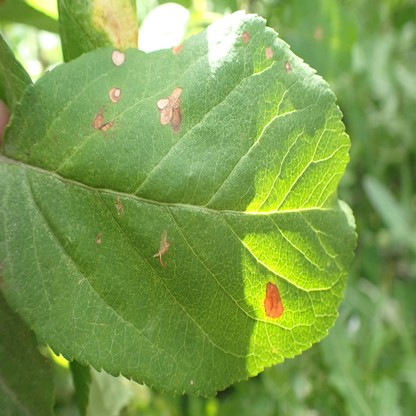frogeye_leaf_spot: (157, 86, 184, 132), (264, 281, 283, 319), (153, 228, 170, 269), (91, 111, 115, 132), (111, 50, 125, 67), (108, 86, 121, 104), (115, 195, 125, 214), (265, 45, 273, 62), (284, 59, 292, 73), (241, 29, 249, 41)
